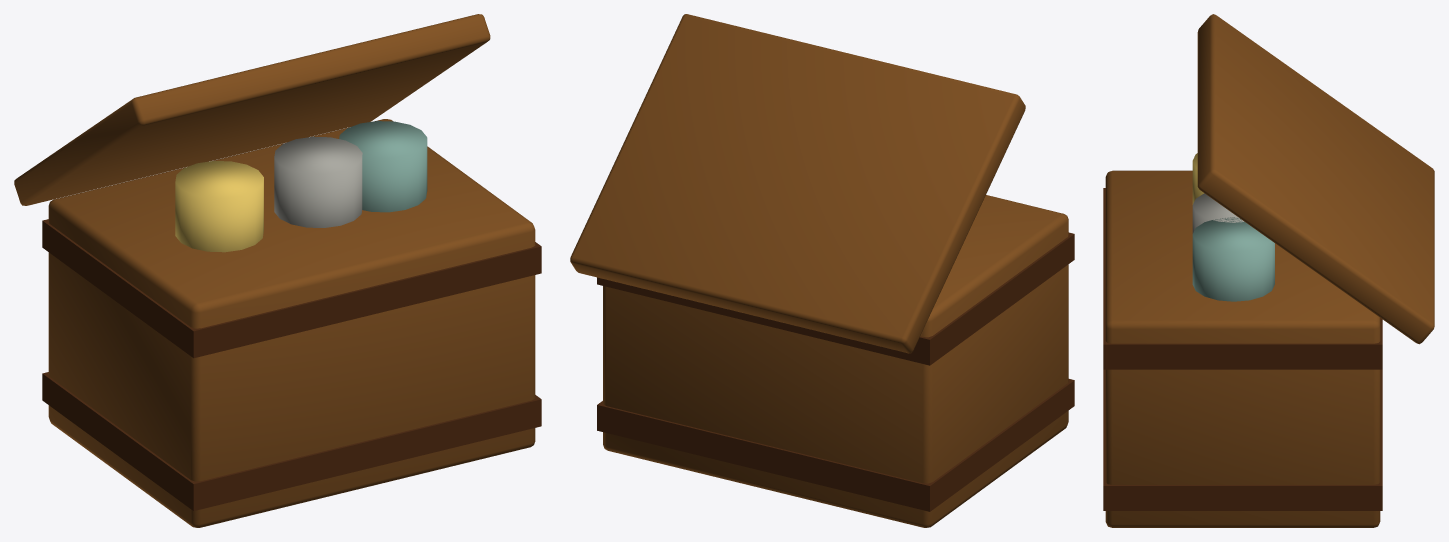
The model's file is loot.glb.
3 views of the same model, side by side, from view 1: azimuth 30°, elevation 25°; view 2: azimuth 150°, elevation 25°; view 3: azimuth 270°, elevation 25° (orthographic). The views are drawn at different scales.
Parts seen in each view (by area): view 1: crate, lid, band1, band0, goods0, goods1, goods2; view 2: lid, crate, band0, band1; view 3: crate, lid, band1, band0, goods2, goods1.
Boxes of the visible parts, x1,y1,x2,y2 form: crate: (48,119,535,527); lid: (14,14,490,205); band1: (42,219,541,358); band0: (42,372,541,510); goods0: (175,161,263,252); goods1: (274,136,362,227); goods2: (339,121,427,212); lid: (570,14,1025,353); crate: (603,195,1068,527); band0: (597,379,1074,511); band1: (597,232,1074,365); crate: (1105,170,1380,527); lid: (1197,14,1434,344); band1: (1103,188,1382,369); band0: (1103,369,1382,510); goods2: (1192,217,1274,301); goods1: (1192,193,1243,233).
Bounding box in the file's own units: 0.82 × 0.8704 × 0.7236.
